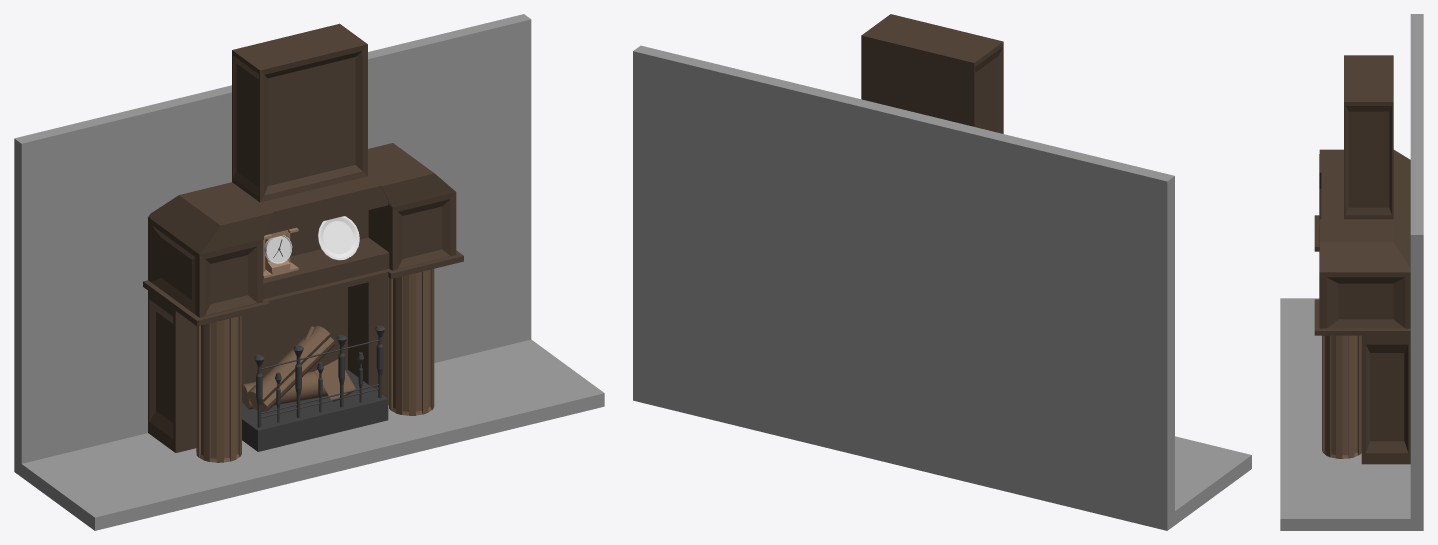
The model's file is Fireplace.fbx.
3 views of the same model, side by side, from view 1: azimuth 30°, elevation 25°; view 2: azimuth 150°, elevation 25°; view 3: azimuth 270°, elevation 25° (orthographic). The views are drawn at different scales.
Visible parts, largest first — view 1: pCube1, pCube3, pCube2, pCylinder1, pCylinder2, pCube5, pCube6, pCube4, pCylinder17, pCylinder23, pCube7, pCylinder14 (+1 smaller); view 2: pCube1, pCube3, pCube2; view 3: pCube3, pCube2, pCube1, pCylinder1, pCube6, pCube11, pCube8, pCube10.
Boxes of the visible parts, x1,y1,x2,y2 form: pCube1: [14, 14, 531, 476]; pCube3: [148, 23, 456, 452]; pCube2: [21, 339, 604, 530]; pCylinder1: [388, 269, 434, 415]; pCylinder2: [196, 315, 241, 462]; pCube5: [242, 369, 388, 451]; pCube6: [260, 176, 387, 235]; pCube4: [263, 237, 389, 299]; pCylinder17: [246, 325, 334, 412]; pCylinder23: [317, 216, 359, 260]; pCube7: [263, 268, 391, 305]; pCylinder14: [242, 371, 328, 409]; pCube1: [633, 45, 1174, 530]; pCube3: [861, 14, 1003, 133]; pCube2: [1175, 436, 1251, 524]; pCube3: [1319, 55, 1410, 464]; pCube2: [1280, 298, 1410, 530]; pCube1: [1410, 14, 1423, 530]; pCylinder1: [1322, 335, 1361, 458]; pCube6: [1321, 172, 1343, 219]; pCube11: [1314, 328, 1410, 335]; pCube8: [1314, 216, 1319, 251]; pCube10: [1314, 299, 1319, 330].
Bounding box in the file's own units: 800 × 577 × 219.
